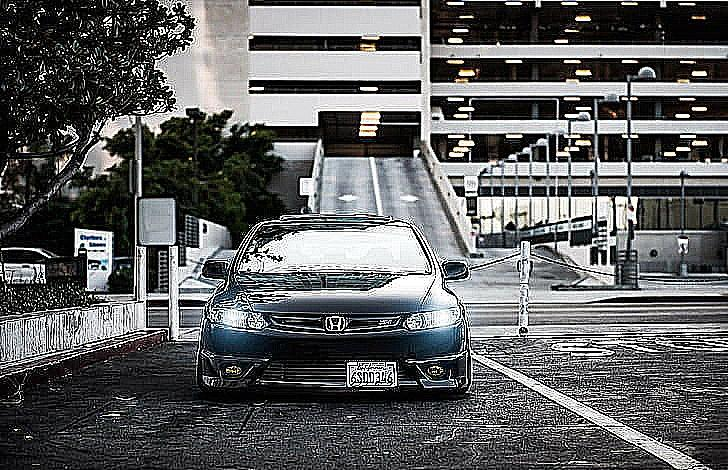Car hood: (232, 272, 440, 314)
Front bumper: (194, 329, 482, 402)
Headlight - -L-: (399, 304, 468, 335)
Headlight - -R-: (201, 306, 275, 334)
Side mirror - -R-: (198, 256, 234, 285)
